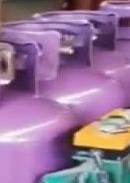cylinder: (1, 1, 130, 183)
